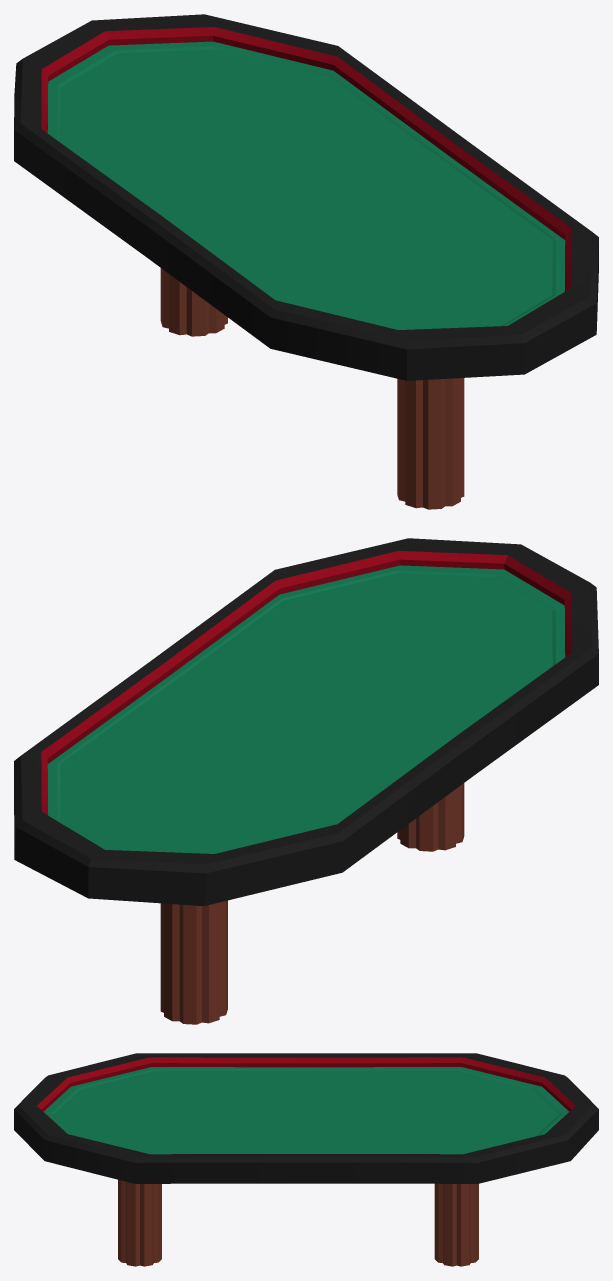
File: 5Seat_Table.fbx
The picture shows the model from 3 angles, top to bottom: view 1: azimuth 30°, elevation 25°; view 2: azimuth 150°, elevation 25°; view 3: azimuth 270°, elevation 25°; orthographic projection. The views are drawn at different scales.
Parts seen in each view (by area): view 1: table2_pokertable1; view 2: table2_pokertable1; view 3: table2_pokertable1.
Part boxes in pixels (box(x1,y1,x2,y2)): table2_pokertable1: box(14, 14, 598, 509); table2_pokertable1: box(14, 538, 598, 1024); table2_pokertable1: box(14, 1053, 598, 1266).
Bounding box in the file's own units: 227 × 150 × 522.
